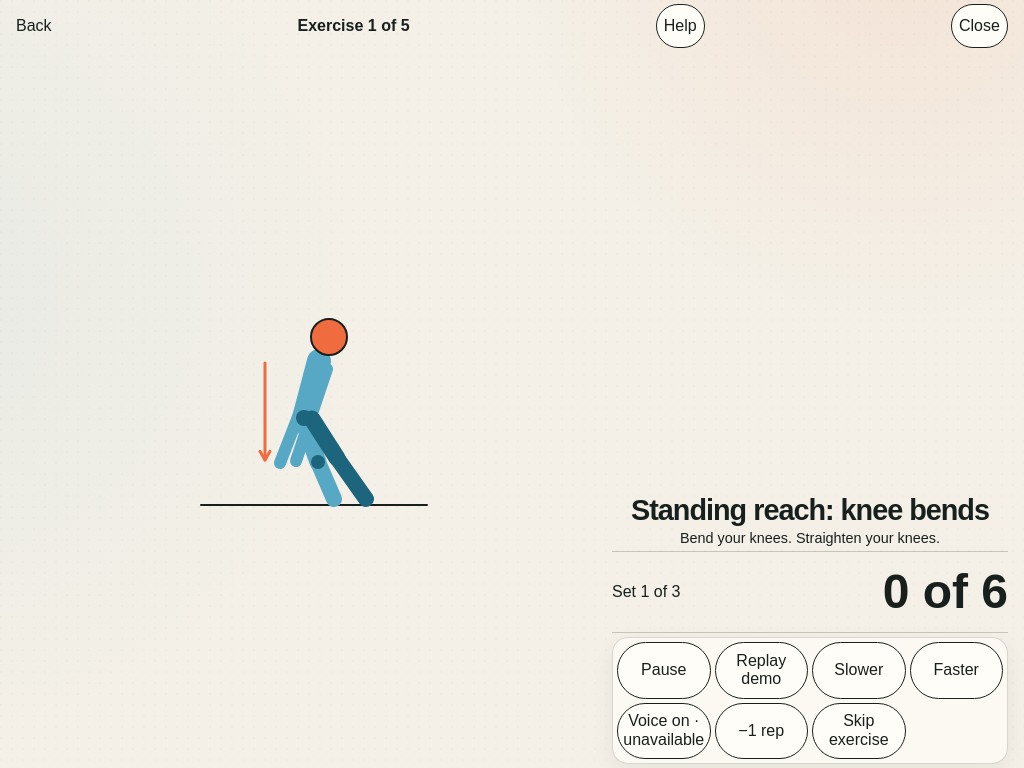
Test: SessionPlayer › uses a labelled modal pause sheet, focuses Resume, and removes the underlying dock
The width and height of the screenshot is (1024, 768).
Click the button "Pause".
click(664, 670)  # box [617, 642, 710, 699]
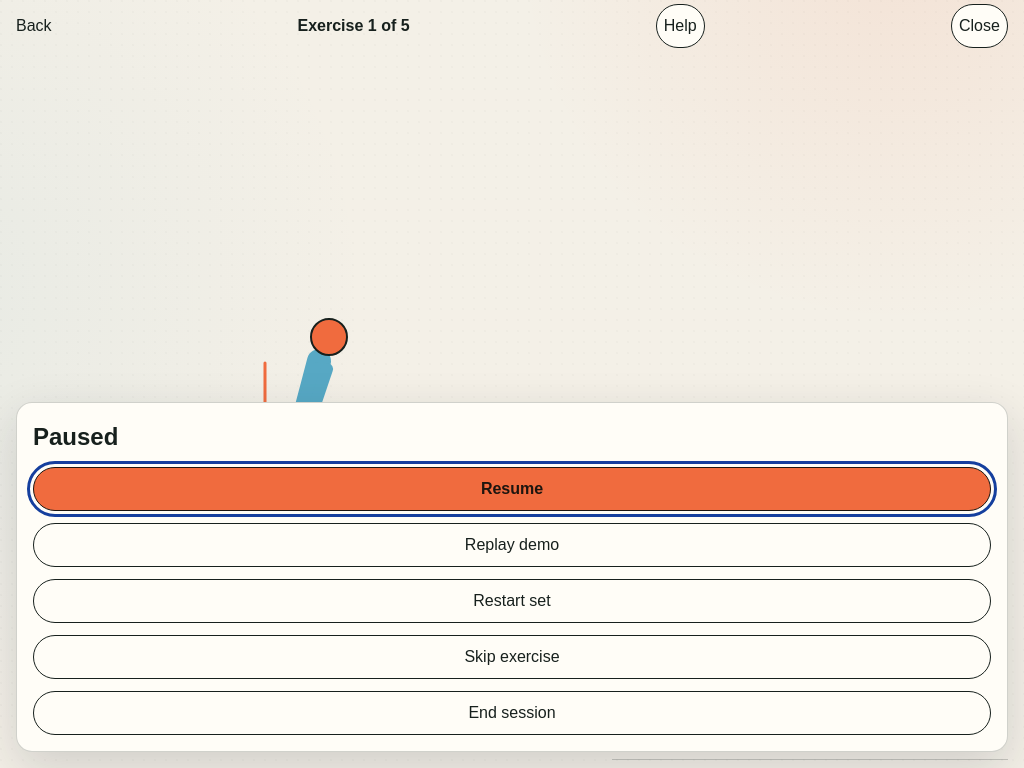
Expected: the button "Replay demo" is enabled, [33, 523, 991, 567]
Expected: the number of buttons "Replay demo" is 1, [33, 523, 991, 567]
